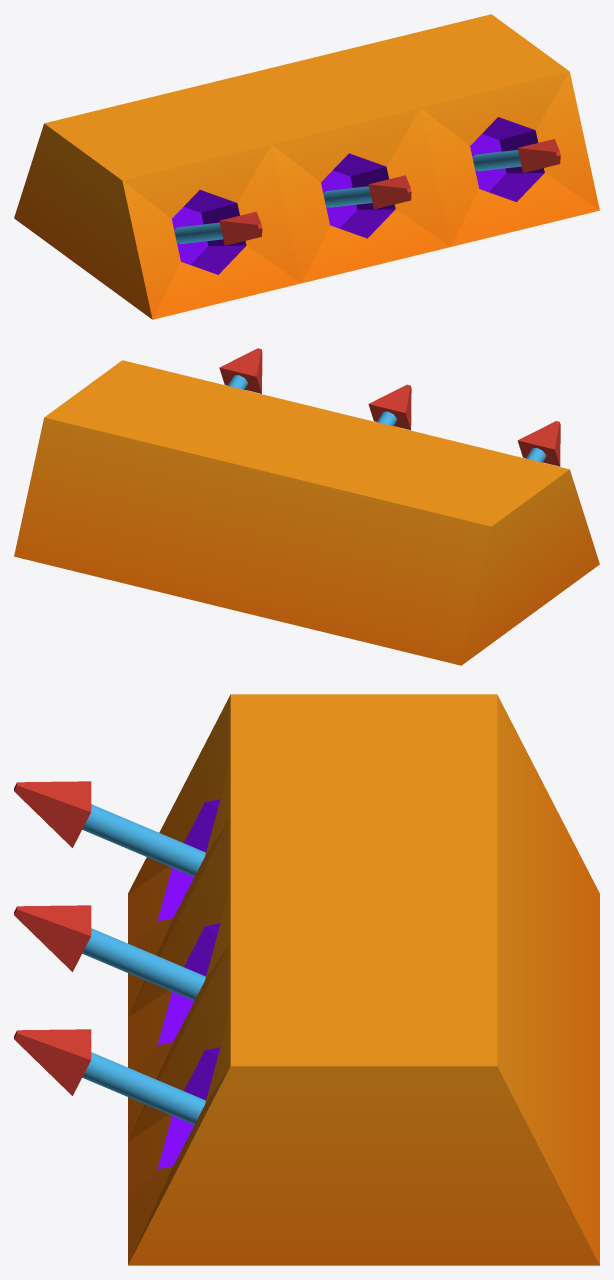
File: Spike_Thrower_01.fbx
3 views of the same model, one above another, from view 1: azimuth 30°, elevation 25°; view 2: azimuth 150°, elevation 25°; view 3: azimuth 270°, elevation 25° (orthographic). The views are drawn at different scales.
Parts seen in each view (by area): view 1: Obstacle_Spike_Thrower_01, Obstacle_Spike_Thrower_01_Spike; view 2: Obstacle_Spike_Thrower_01, Obstacle_Spike_Thrower_01_Spike; view 3: Obstacle_Spike_Thrower_01, Obstacle_Spike_Thrower_01_Spike.
Part boxes in pixels (<box>): Obstacle_Spike_Thrower_01: <box>14,14,599,319</box>; Obstacle_Spike_Thrower_01_Spike: <box>174,139,560,245</box>; Obstacle_Spike_Thrower_01: <box>14,360,599,665</box>; Obstacle_Spike_Thrower_01_Spike: <box>219,348,560,466</box>; Obstacle_Spike_Thrower_01: <box>128,694,599,1265</box>; Obstacle_Spike_Thrower_01_Spike: <box>14,781,205,1124</box>.
Size of the model in its own units: 150 by 37.5 by 99.87.
Materials: 1 (1 with a texture image).
